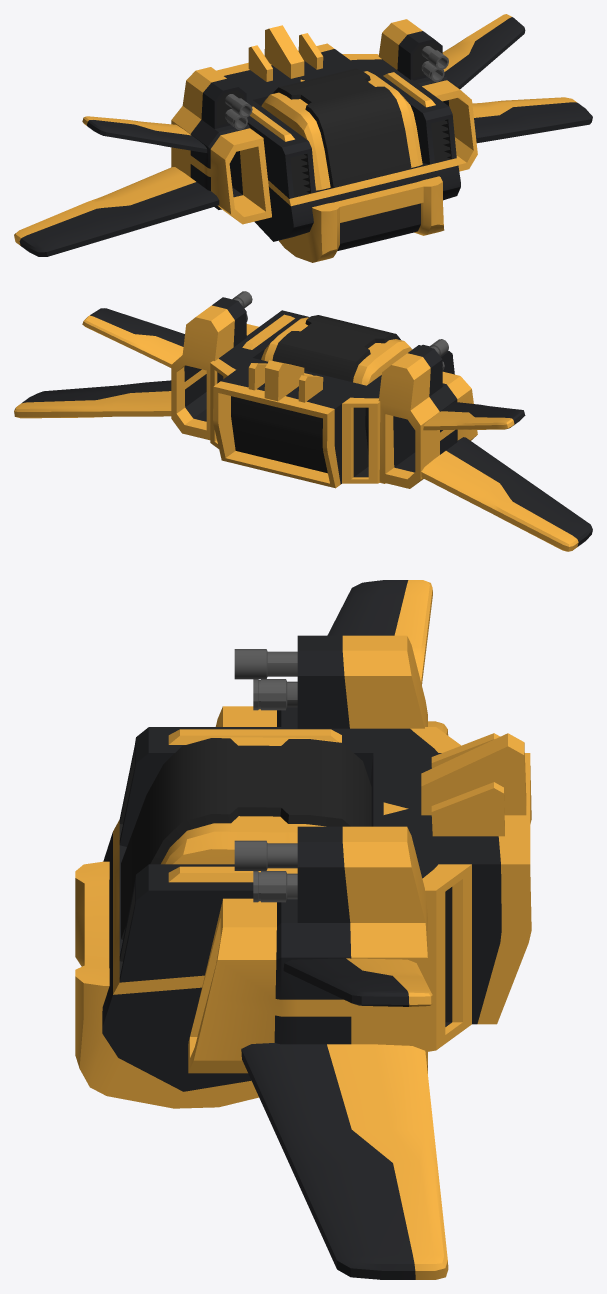
File: SpaceshipC_9.glb
The picture shows the model from 3 angles, top to bottom: view 1: azimuth 30°, elevation 25°; view 2: azimuth 150°, elevation 25°; view 3: azimuth 270°, elevation 25°; orthographic projection. The views are drawn at different scales.
Visible parts, largest first — view 1: Spaceship_FinnTheFrog.003; view 2: Spaceship_FinnTheFrog.003; view 3: Spaceship_FinnTheFrog.003.
Boxes of the visible parts, <box> form: Spaceship_FinnTheFrog.003: <box>14,14,592,262</box>; Spaceship_FinnTheFrog.003: <box>14,291,592,551</box>; Spaceship_FinnTheFrog.003: <box>75,580,531,1279</box>.
Size of the model in its own units: 11.62 by 3.06 by 4.11.
Materials: 1 (1 with a texture image).
